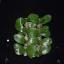leaf: (14, 33, 26, 45), (40, 26, 52, 37), (39, 14, 52, 24), (27, 28, 39, 38), (40, 37, 53, 46), (41, 44, 51, 55), (29, 14, 39, 24), (15, 18, 27, 26), (14, 24, 26, 32), (28, 36, 40, 44), (26, 46, 37, 54), (14, 44, 26, 50), (15, 48, 25, 55), (38, 51, 42, 56)
